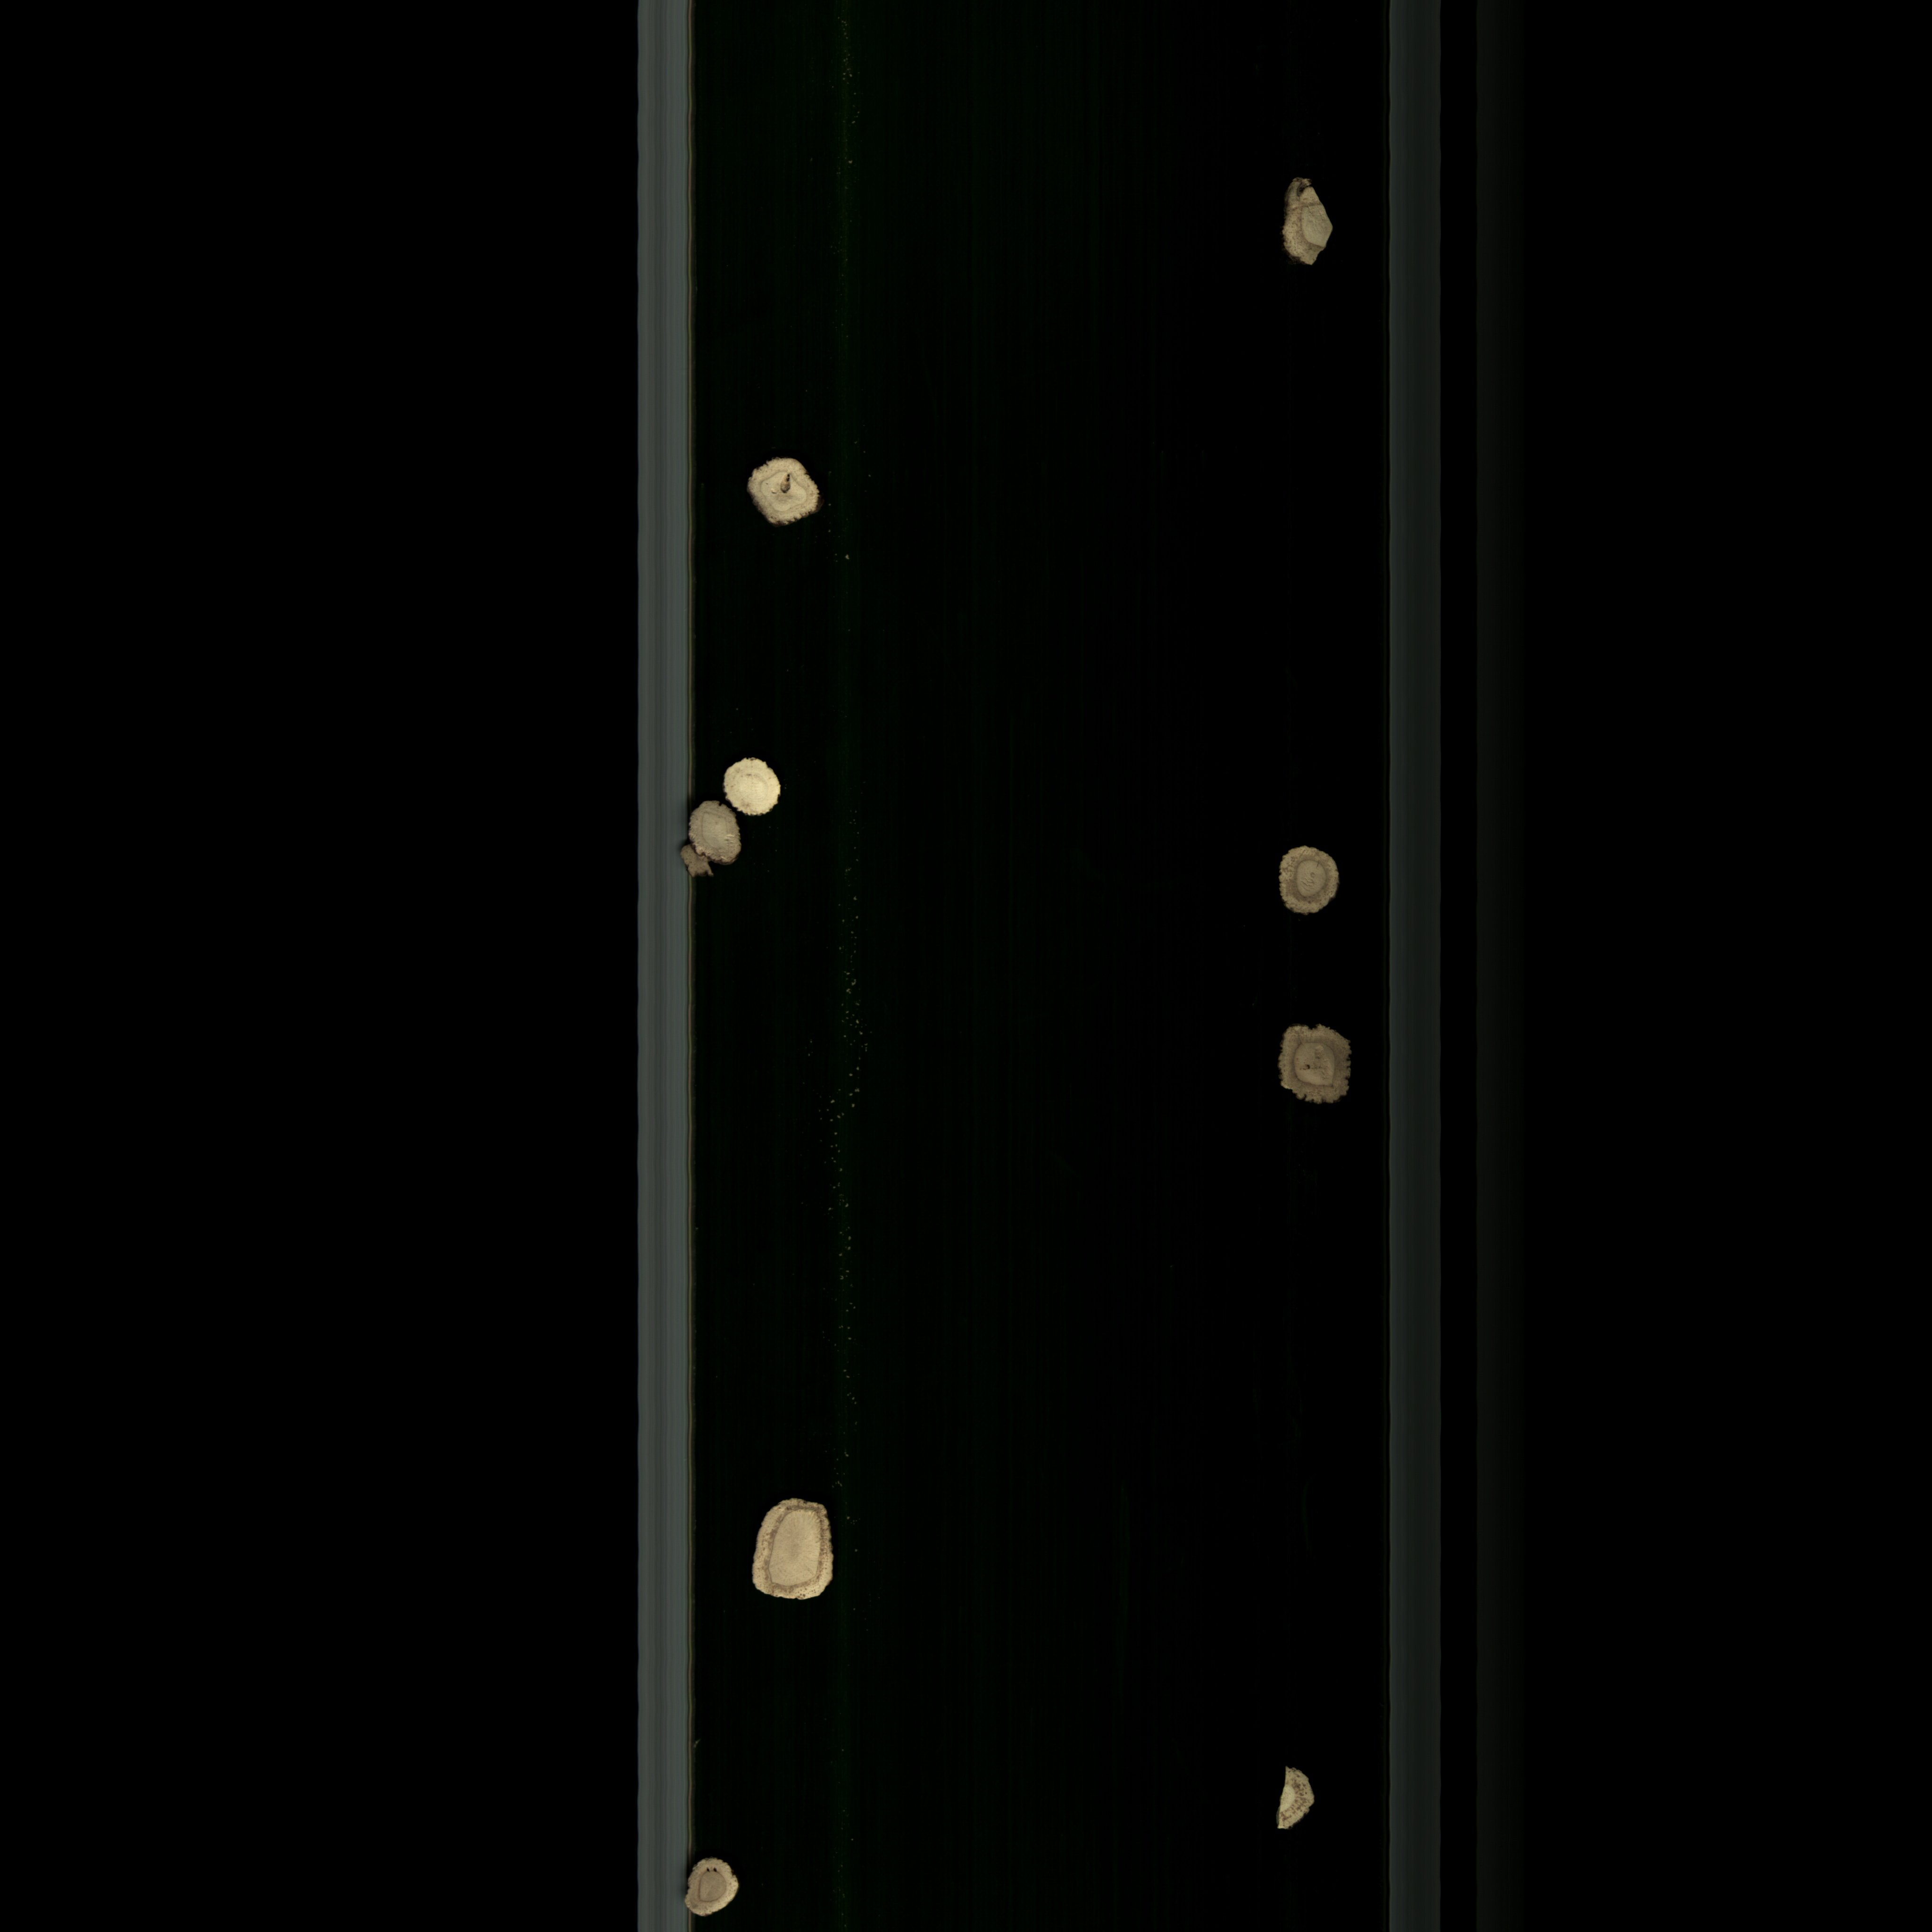debris: (1276, 1755, 1320, 1845)
hole: (713, 449, 833, 536), (678, 1858, 766, 1923)
moldy: (736, 1495, 858, 1617), (1270, 1010, 1364, 1116), (1276, 166, 1348, 274), (671, 791, 747, 883), (1272, 837, 1341, 925)
